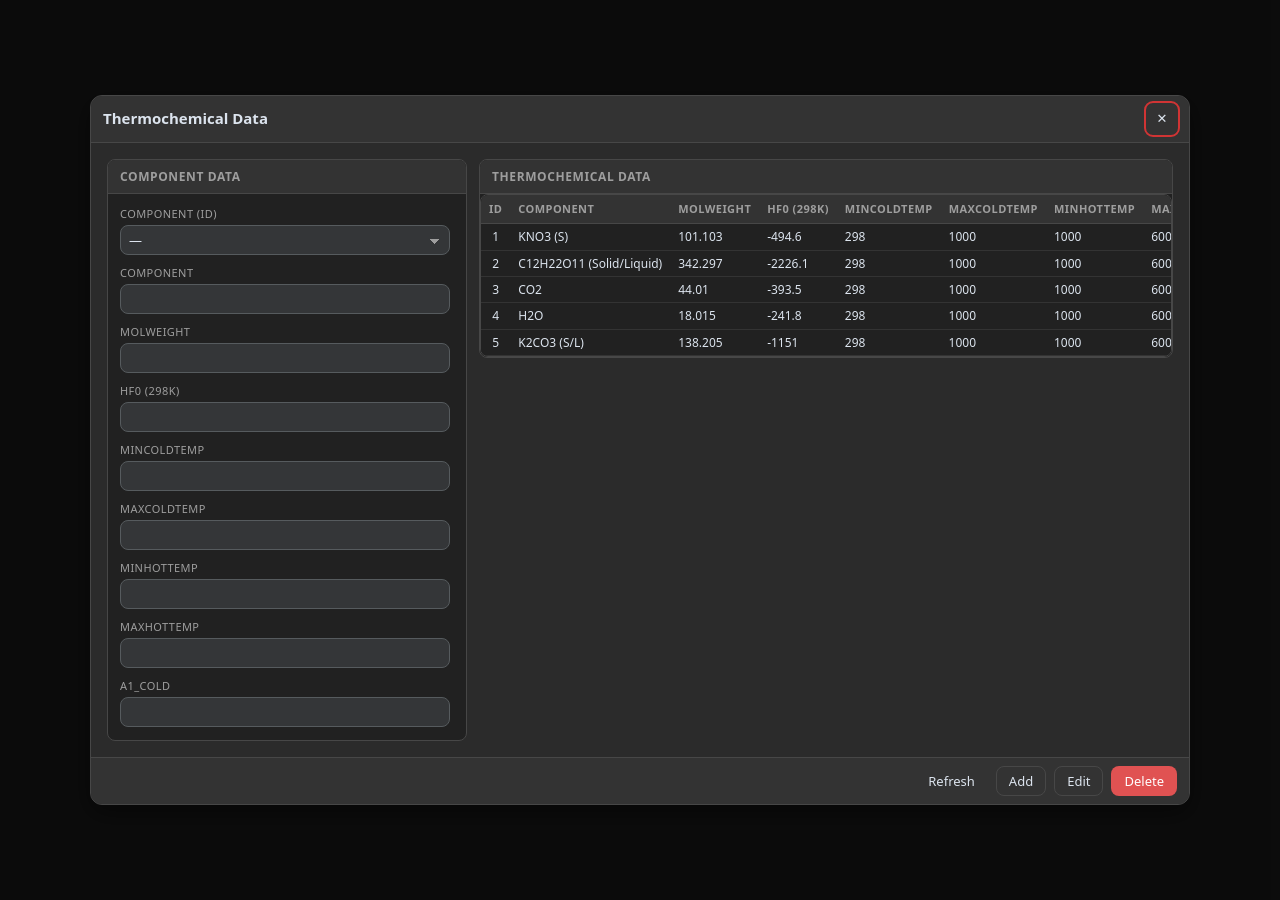
ventanas de base de datos (D/G) › ComponentsWindow rellena los campos al elegir el ID (D-1)
Select "C12H22O11 (Solid/Liquid) (2)" in the dropdown labelled "Component (id)". click: [285, 240]
box: [120, 225, 450, 255]
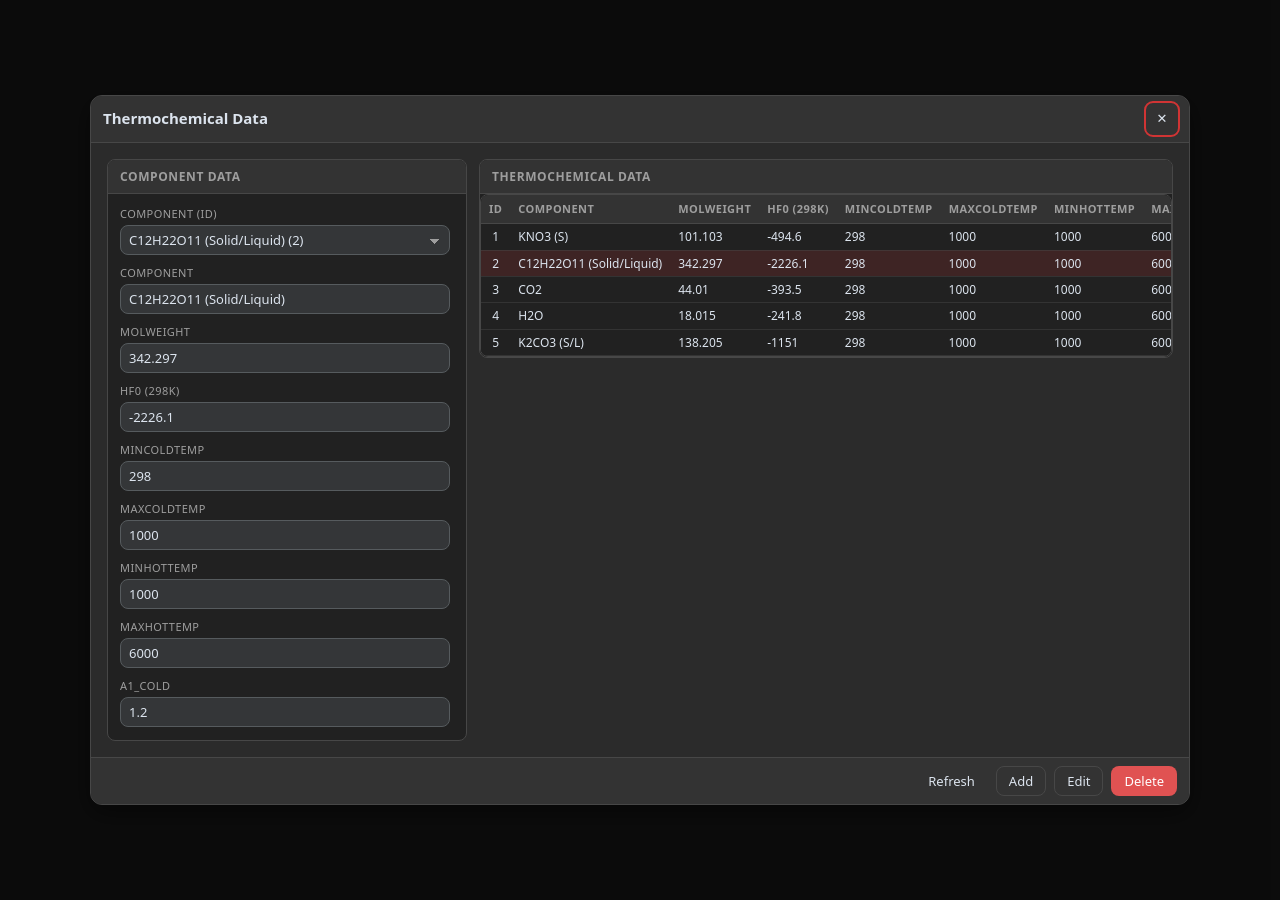
Expected: the field labelled "Component" holds "C12H22O11 (Solid/Liquid)", [120, 284, 450, 314]
Expected: the field labelled "MolWeight" holds "342.297", [120, 343, 450, 373]
Expected: the field labelled "Hf0 (298K)" holds "-2226.1", [120, 402, 450, 432]
